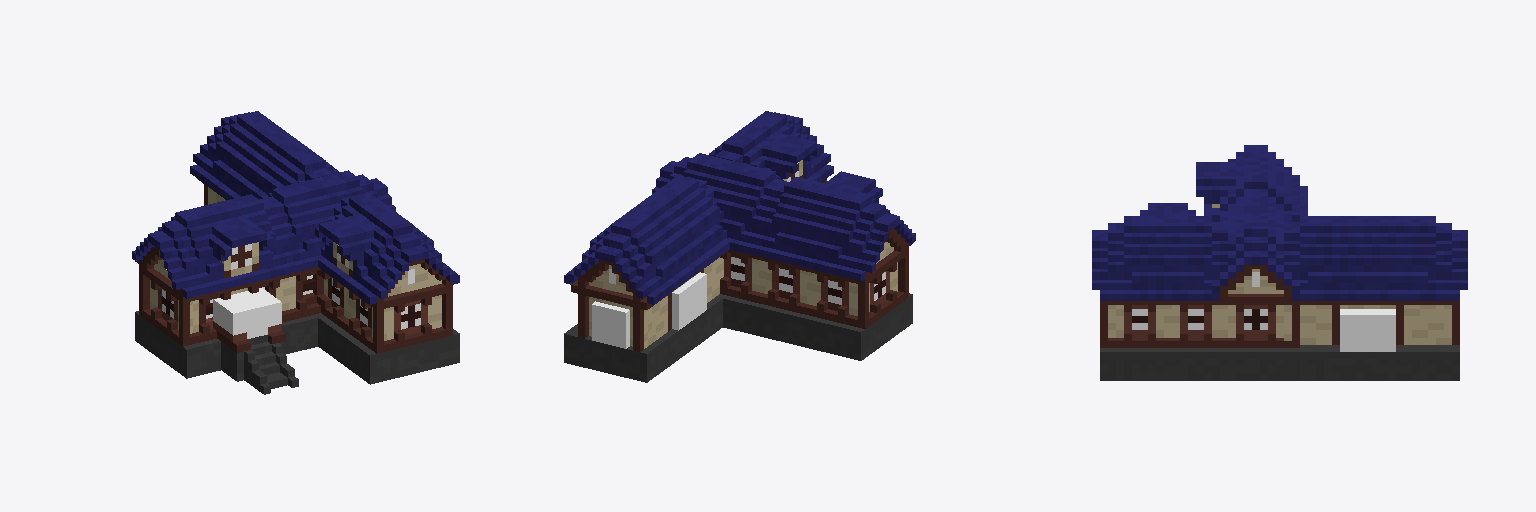
3 renders of one model, left to right at view 1: azimuth 30°, elevation 25°; view 2: azimuth 150°, elevation 25°; view 3: azimuth 270°, elevation 25°, orthographic.
Visible parts, largest first — view 1: object 1; view 2: object 1; view 3: object 1.
Part boxes in pixels (x1,y1,x2,y2): object 1: (132,111,459,394); object 1: (564,111,915,382); object 1: (1092,145,1467,380).
Size of the model in its own units: 3.3 by 1.9 by 4.7.
1 materials, 1 textured.